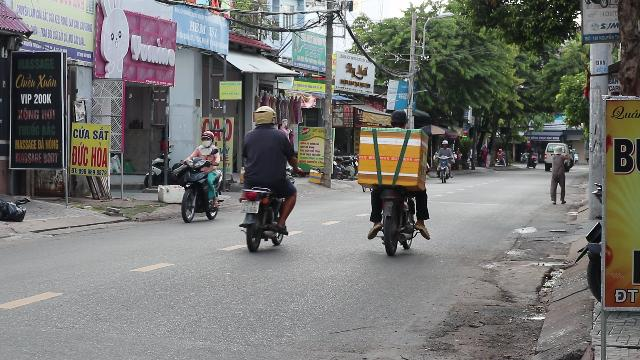helmet: (251, 105, 275, 125), (200, 130, 214, 146)
licenseplate: (240, 200, 258, 214)
motorcyclist: (356, 108, 434, 254), (236, 105, 298, 251), (178, 130, 224, 222)
nohelmet: (389, 109, 407, 128)
